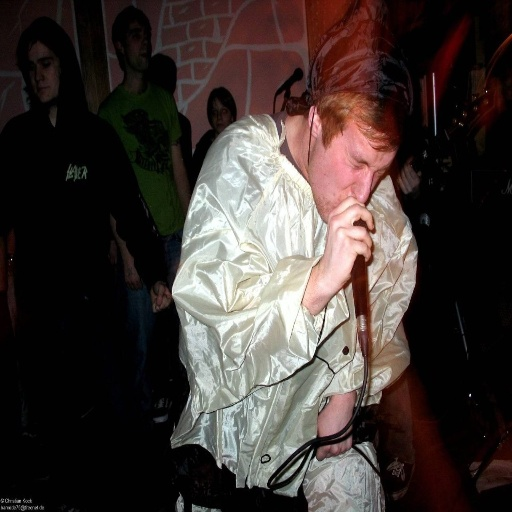hand: (308, 195, 384, 316), (316, 400, 352, 462), (397, 158, 420, 197), (149, 282, 174, 315), (122, 258, 144, 291), (108, 242, 116, 266)
